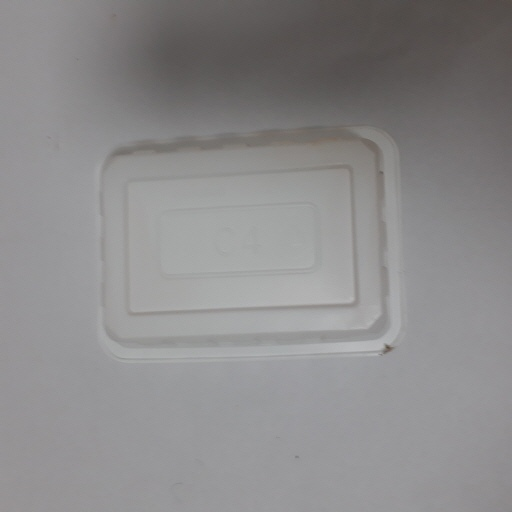Plastic_4: (89, 124, 406, 366)
